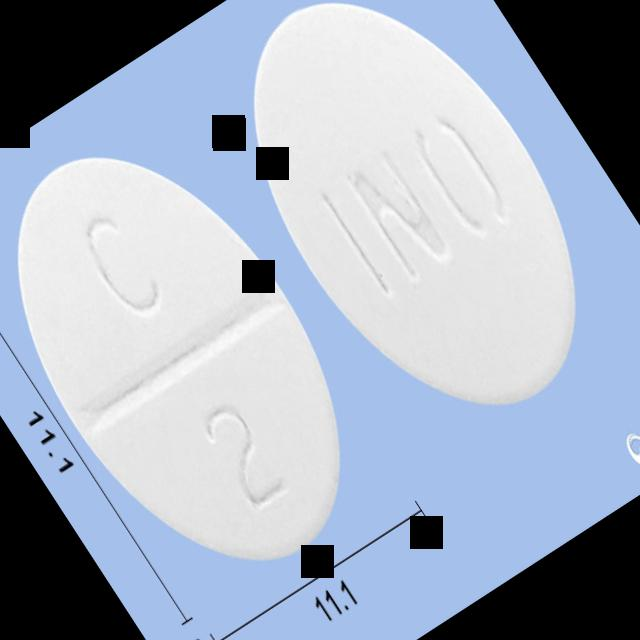Citopcin: (0, 88, 415, 625), (175, 0, 640, 475)
